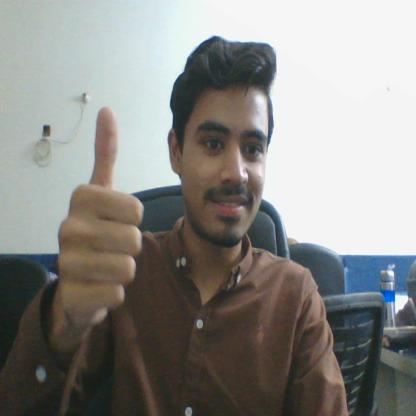thumbs-up: (58, 105, 149, 311)
